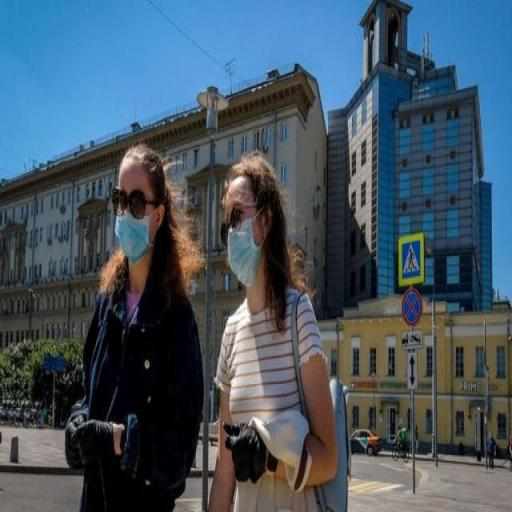person: (61, 144, 210, 512), (210, 154, 349, 512)
